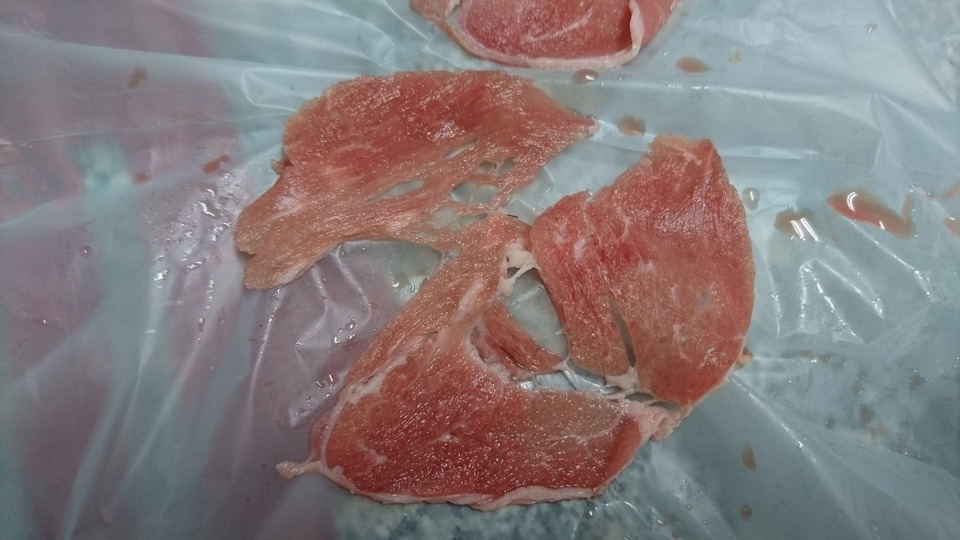restructured meat: (225, 64, 765, 525), (408, 2, 673, 56)
